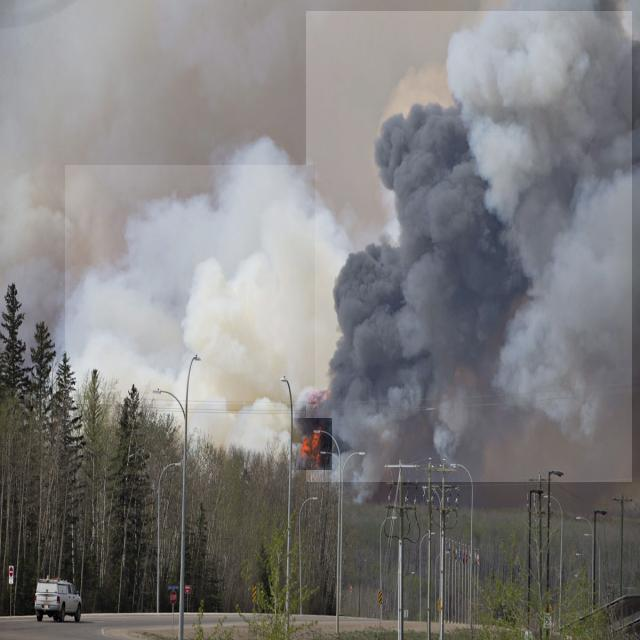Fire: (292, 418, 332, 470)
Smoke: (306, 11, 632, 482), (65, 165, 315, 404)
